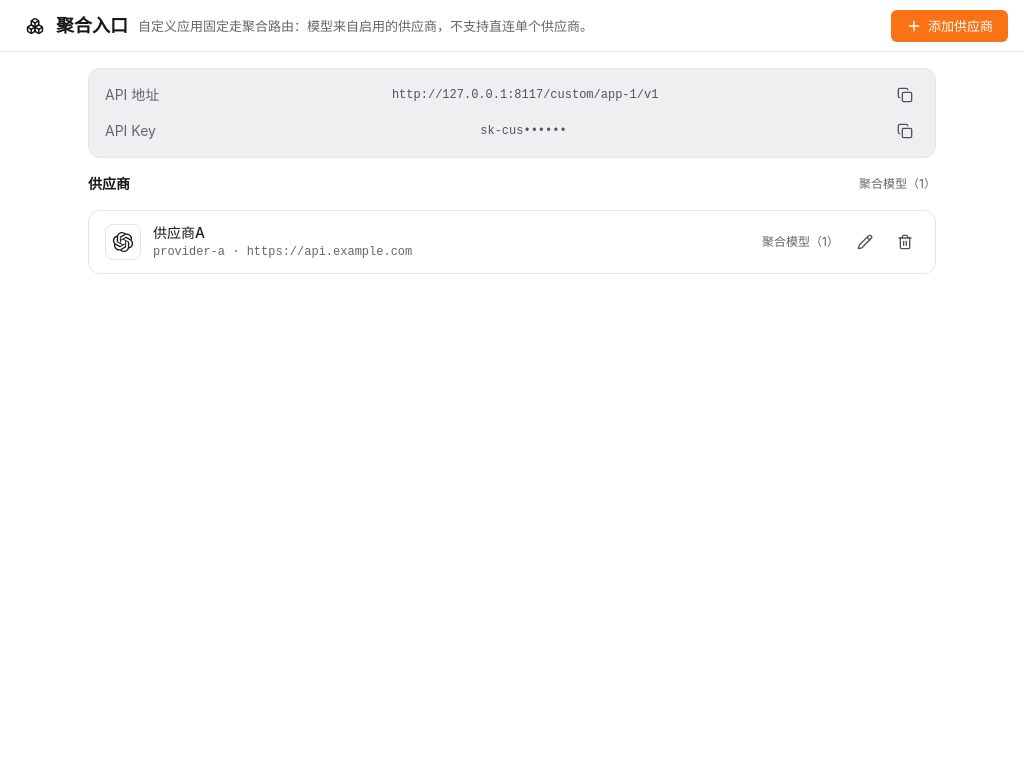
CustomAppProvidersPage 编辑与删除 › 编辑：弹窗预填并保存调用 saveCustomAppProvider
Later steps or results of the test are not shown.
Click the button named "编辑" at point(865, 242), box [851, 228, 879, 256]
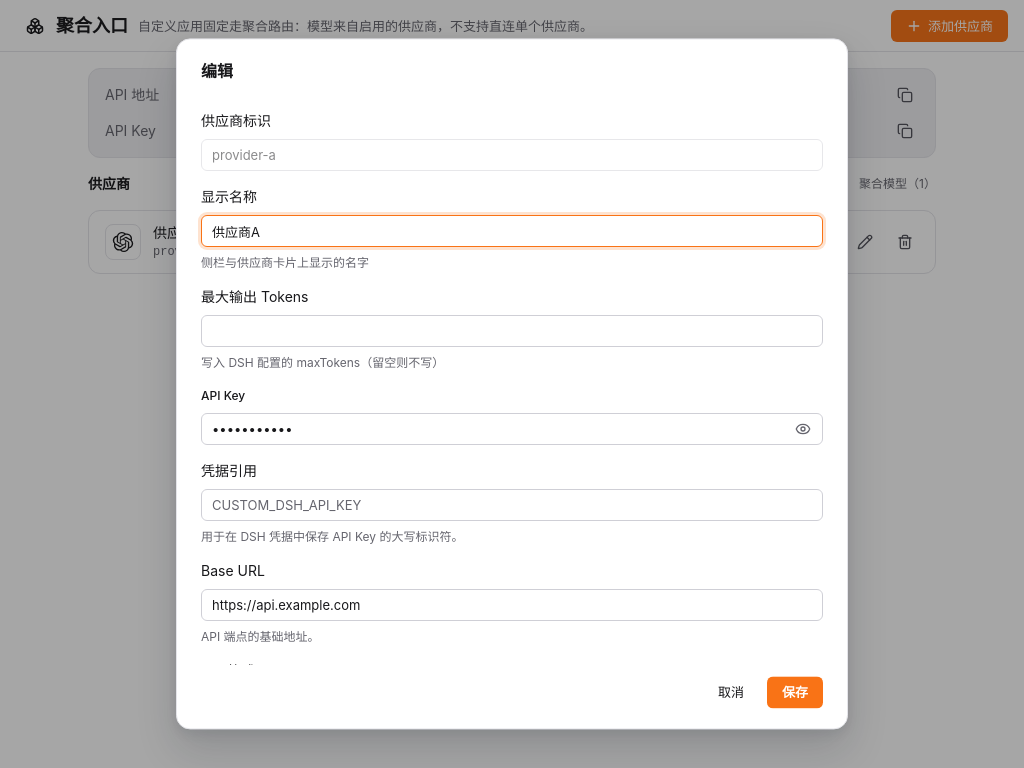
expect the field labelled "供应商标识" holds "provider-a": met, box [201, 139, 823, 171]
expect the field labelled "供应商标识" is disabled: met, box [201, 139, 823, 171]
